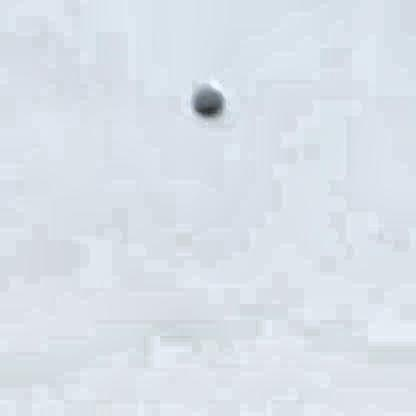golfball: (190, 75, 223, 114)
